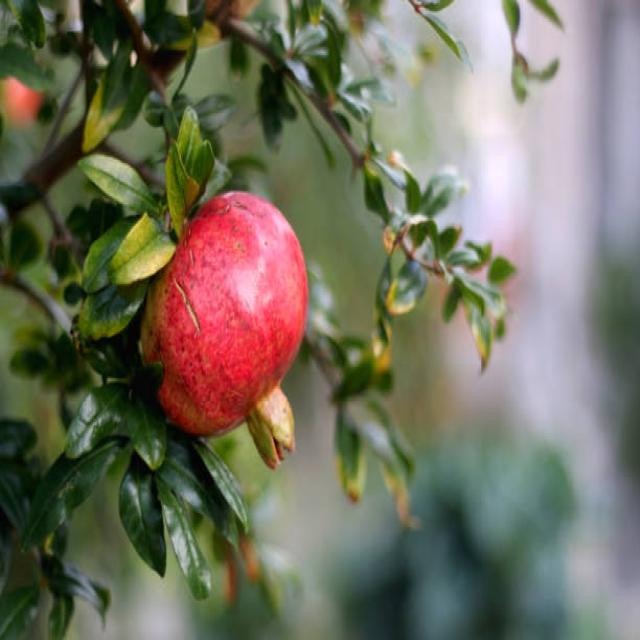Ripe: (134, 183, 312, 474)
